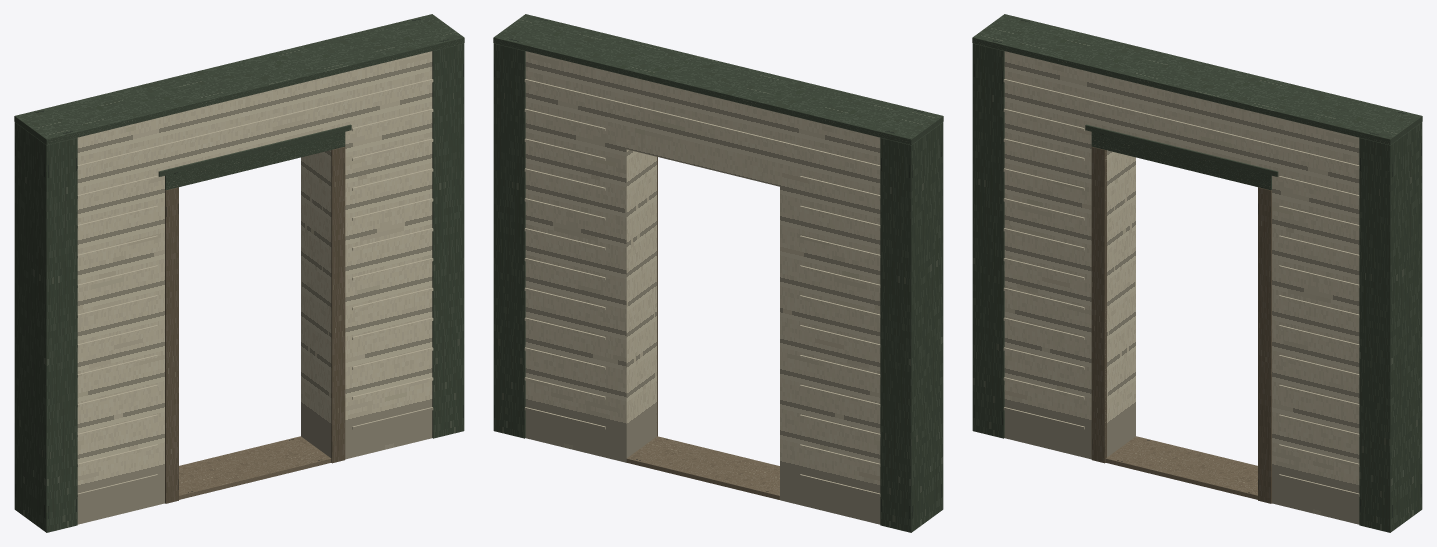
The model's file is house_01_wall_doorway.glb.
The picture shows the model from 3 angles, left to right: view 1: azimuth 30°, elevation 25°; view 2: azimuth 150°, elevation 25°; view 3: azimuth 330°, elevation 25°; orthographic projection.
Visible parts, largest first — view 1: house_01_wall_doorway; view 2: house_01_wall_doorway; view 3: house_01_wall_doorway.
Boxes of the visible parts, x1,y1,x2,y2 form: house_01_wall_doorway: (14,14,464,532); house_01_wall_doorway: (493,14,943,532); house_01_wall_doorway: (972,14,1422,532).
Bounding box in the file's own units: 3 × 2.7 × 0.4.
4 materials, 4 textured.
